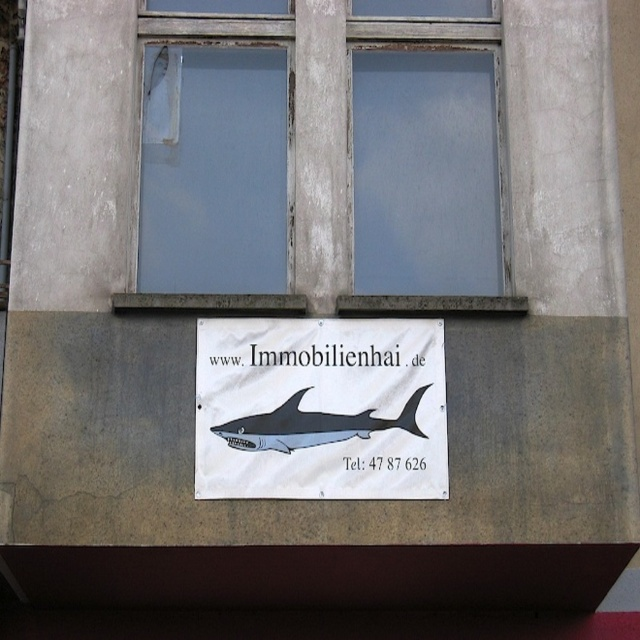Shark: (209, 369, 416, 465)
